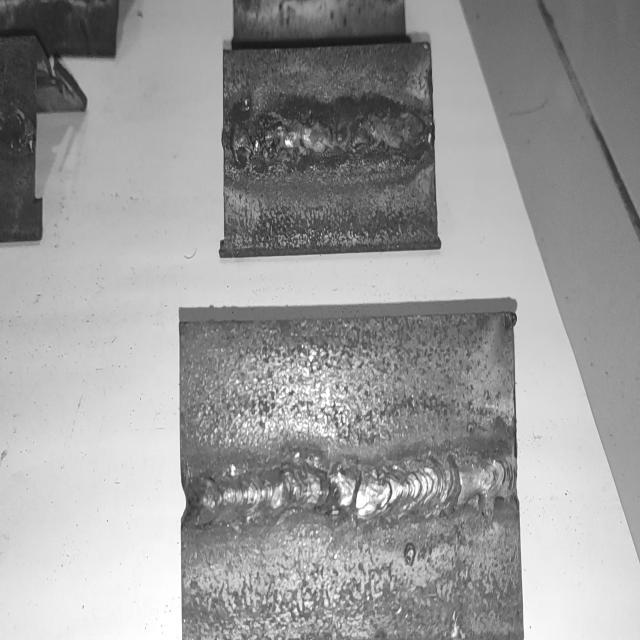Defect: (229, 101, 311, 168)
Welding Line: (185, 451, 515, 522), (230, 110, 430, 163)
Workpiece: (180, 317, 520, 640), (222, 42, 435, 256)
